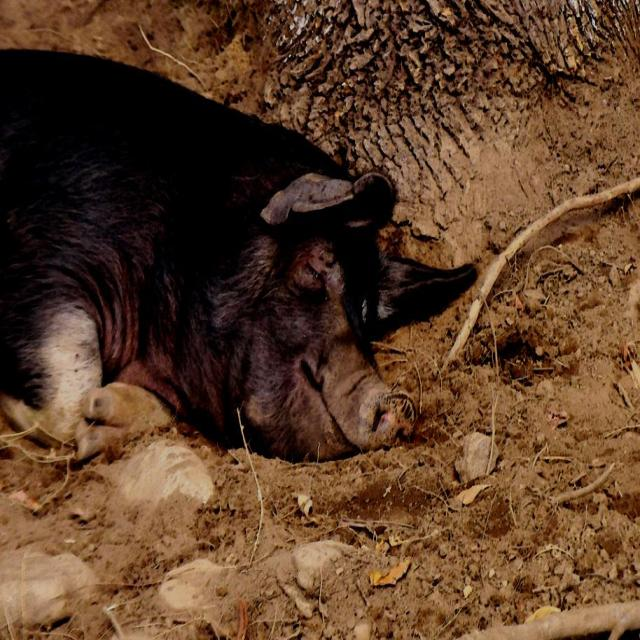pig: (0, 51, 475, 460)
